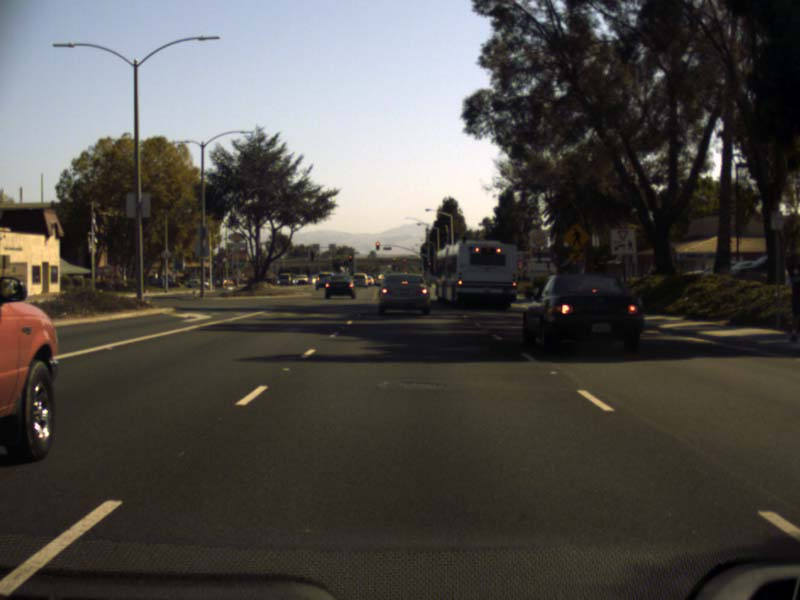Red: (375, 241, 379, 249), (348, 254, 352, 262)
